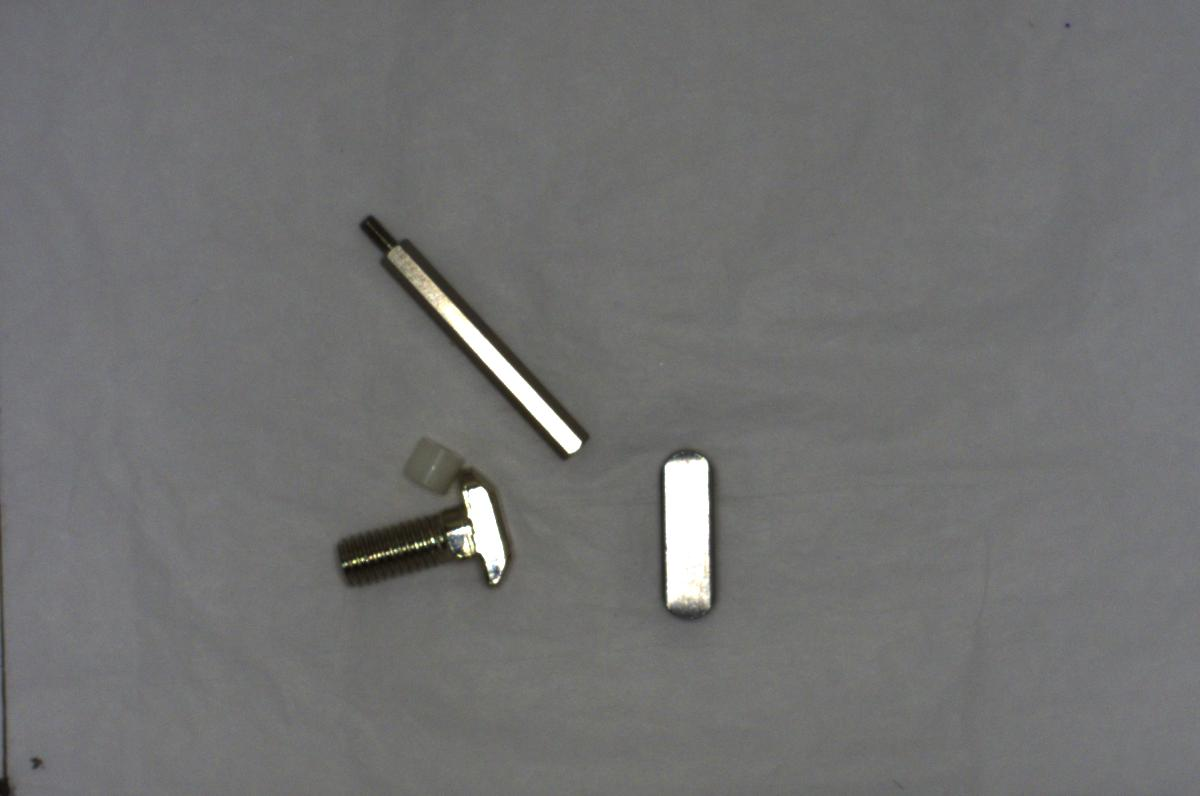Hexagonal steel column: (348, 199, 593, 469)
Keybar: (639, 441, 725, 625)
Plastic cushion pillar: (390, 428, 468, 493)
T-shaped screw: (327, 467, 520, 605)
